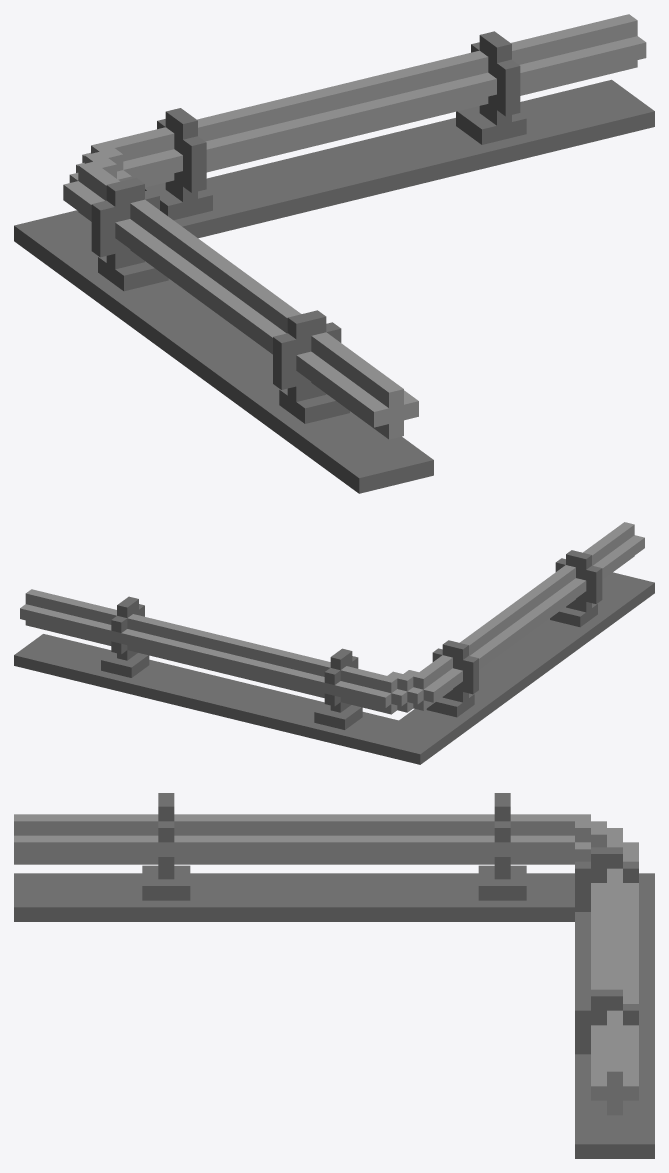
File: All-2-Zabor_6.obj
3 renders of one model, top to bottom at view 1: azimuth 30°, elevation 25°; view 2: azimuth 150°, elevation 25°; view 3: azimuth 270°, elevation 25°, orthographic. The views are drawn at different scales.
Visible parts, largest first — view 1: Zabor_6; view 2: Zabor_6; view 3: Zabor_6.
Part boxes in pixels (left/top/right/bottom): Zabor_6: left=14, top=14, right=654, bottom=493; Zabor_6: left=14, top=522, right=654, bottom=764; Zabor_6: left=14, top=793, right=654, bottom=1158.
Bounding box in the file's own units: 4 × 0.7 × 4.
1 material, 1 textured.
